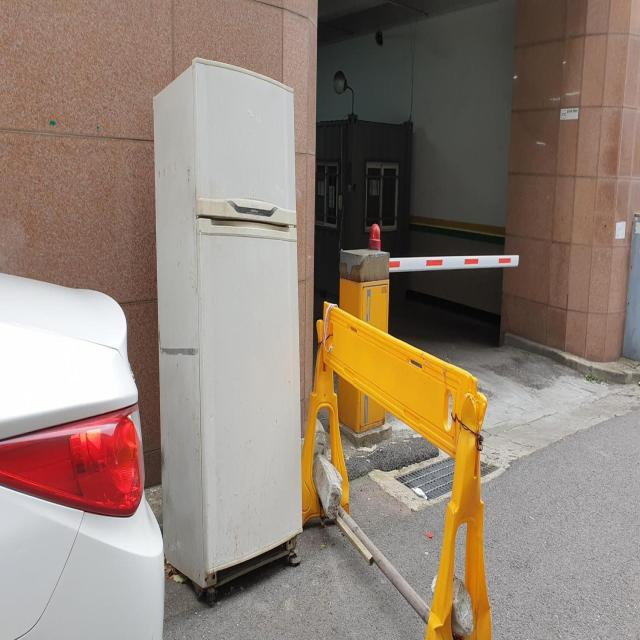refrigerator: (151, 53, 304, 591)
